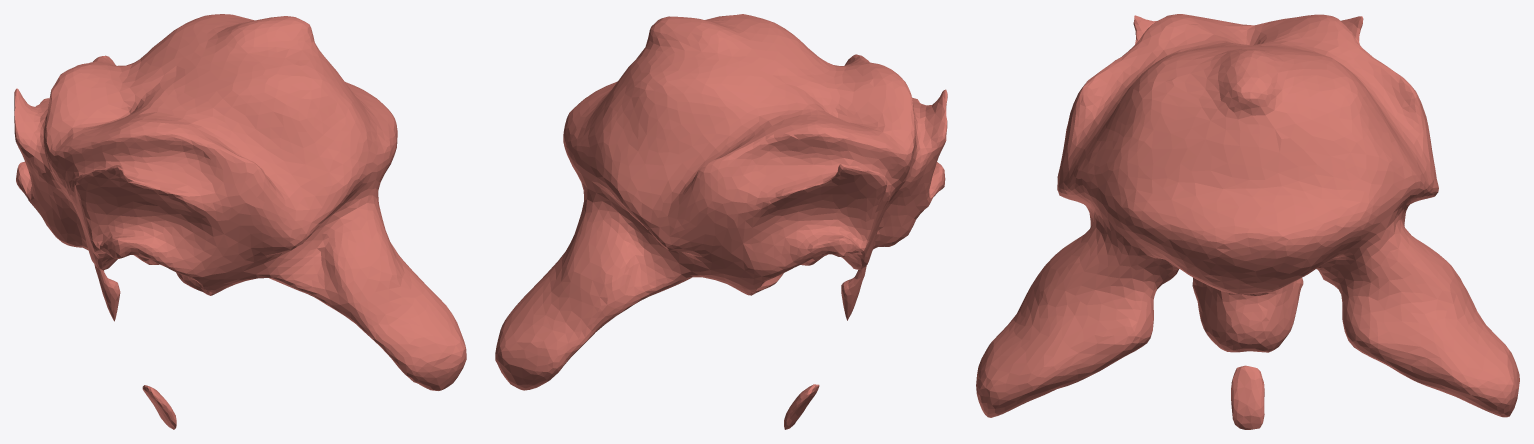
3 views of the same model, side by side, from view 1: azimuth 30°, elevation 25°; view 2: azimuth 150°, elevation 25°; view 3: azimuth 270°, elevation 25° (orthographic). The views are drawn at different scales.
Parts seen in each view (by area): view 1: 1097.obj; view 2: 1097.obj; view 3: 1097.obj.
Part boxes in pixels (bbox=[...]): 1097.obj: bbox=[14, 14, 466, 429]; 1097.obj: bbox=[495, 14, 947, 429]; 1097.obj: bbox=[976, 14, 1519, 429].
Size of the model in its own units: 3955 by 4320 by 5062.
